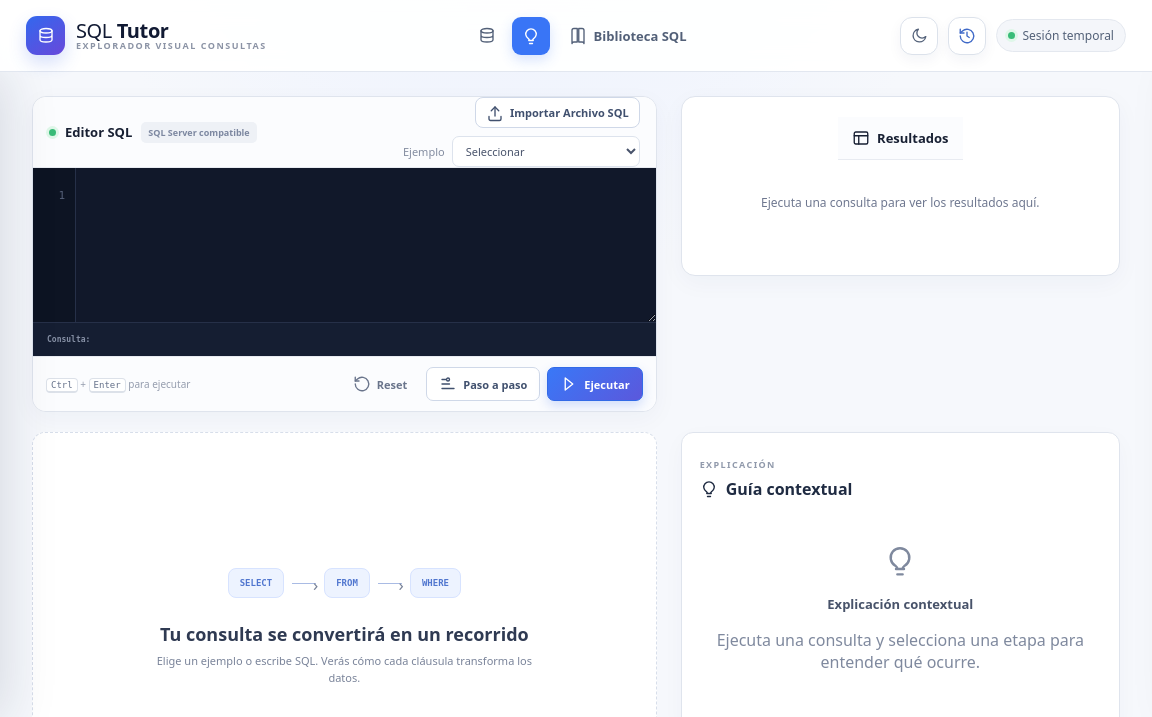
Scenario: App SQL flows › executes a valid query and shows the result
The width and height of the screenshot is (1152, 717).
Type "SELECT first_name FROM Customers WHERE customer_id = 1;" into the text box named "consulta sql" at (366, 245), box [76,168,656,322]
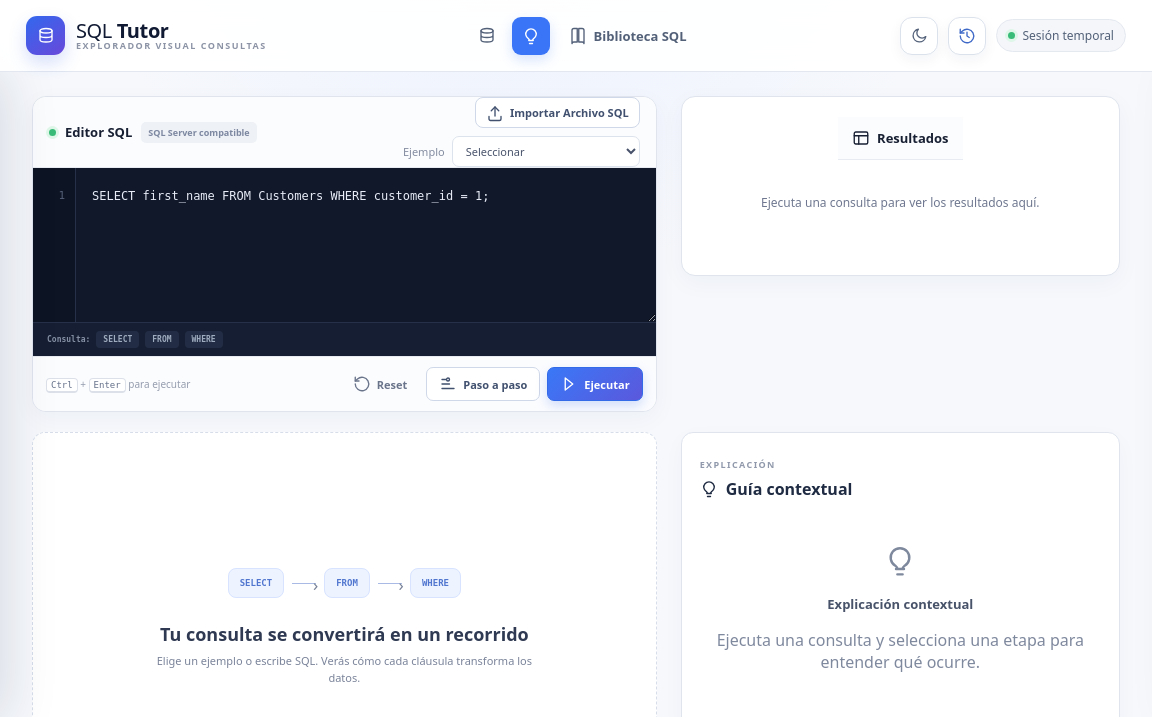
Click the button "Ejecutar" at (595, 384), box [547,367,643,401]
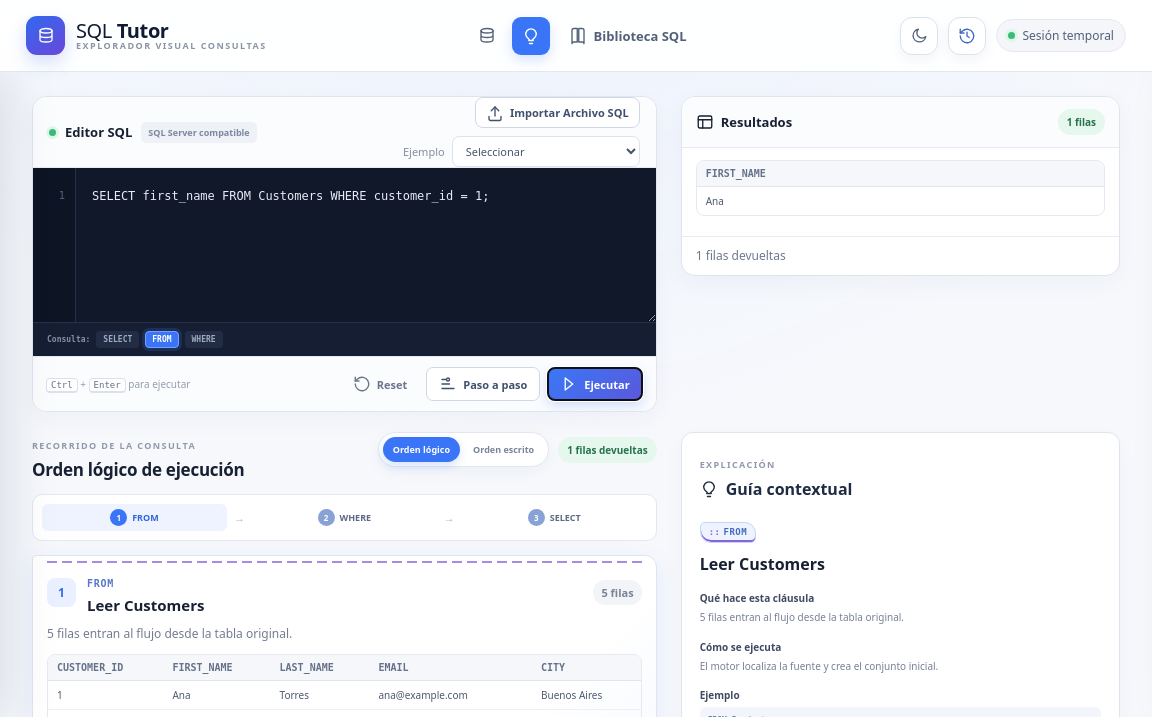
Expected: the text "Ana" below "Resultados" is shown, [706,194,724,208]
Expected: the text "1 filas devueltas" below "Resultados" is shown, [696,247,786,264]
